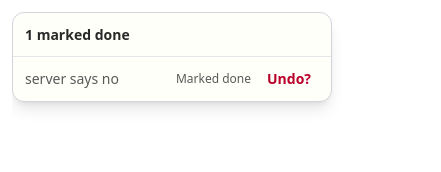
Test: undo side effects › says so and refreshes nothing when the revert is rejected
Click the button "Undo?". click: {"x": 289, "y": 79}
box: left=259, top=65, right=319, bottom=93
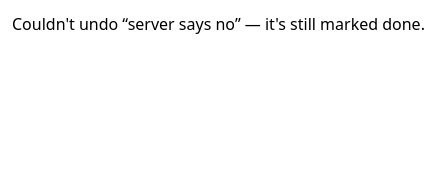
expect the text "it's still marked done" is shown: met, box left=12, top=13, right=425, bottom=35
